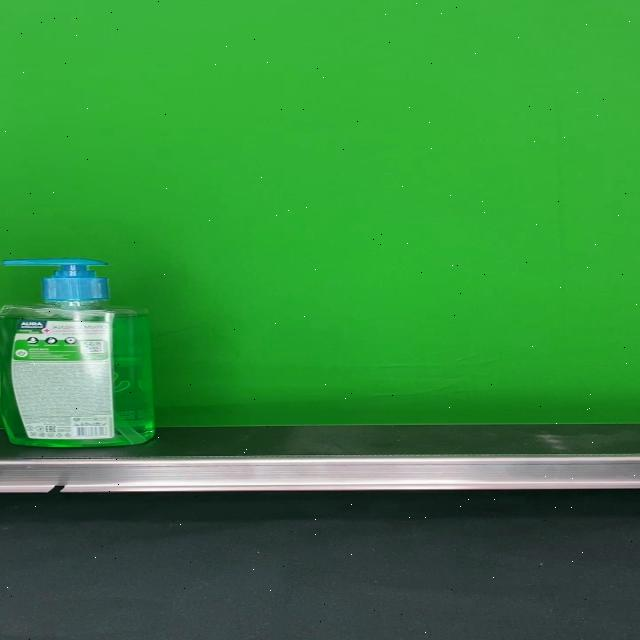Bottle: (0, 258, 156, 447)
Cap: (3, 258, 107, 301)
